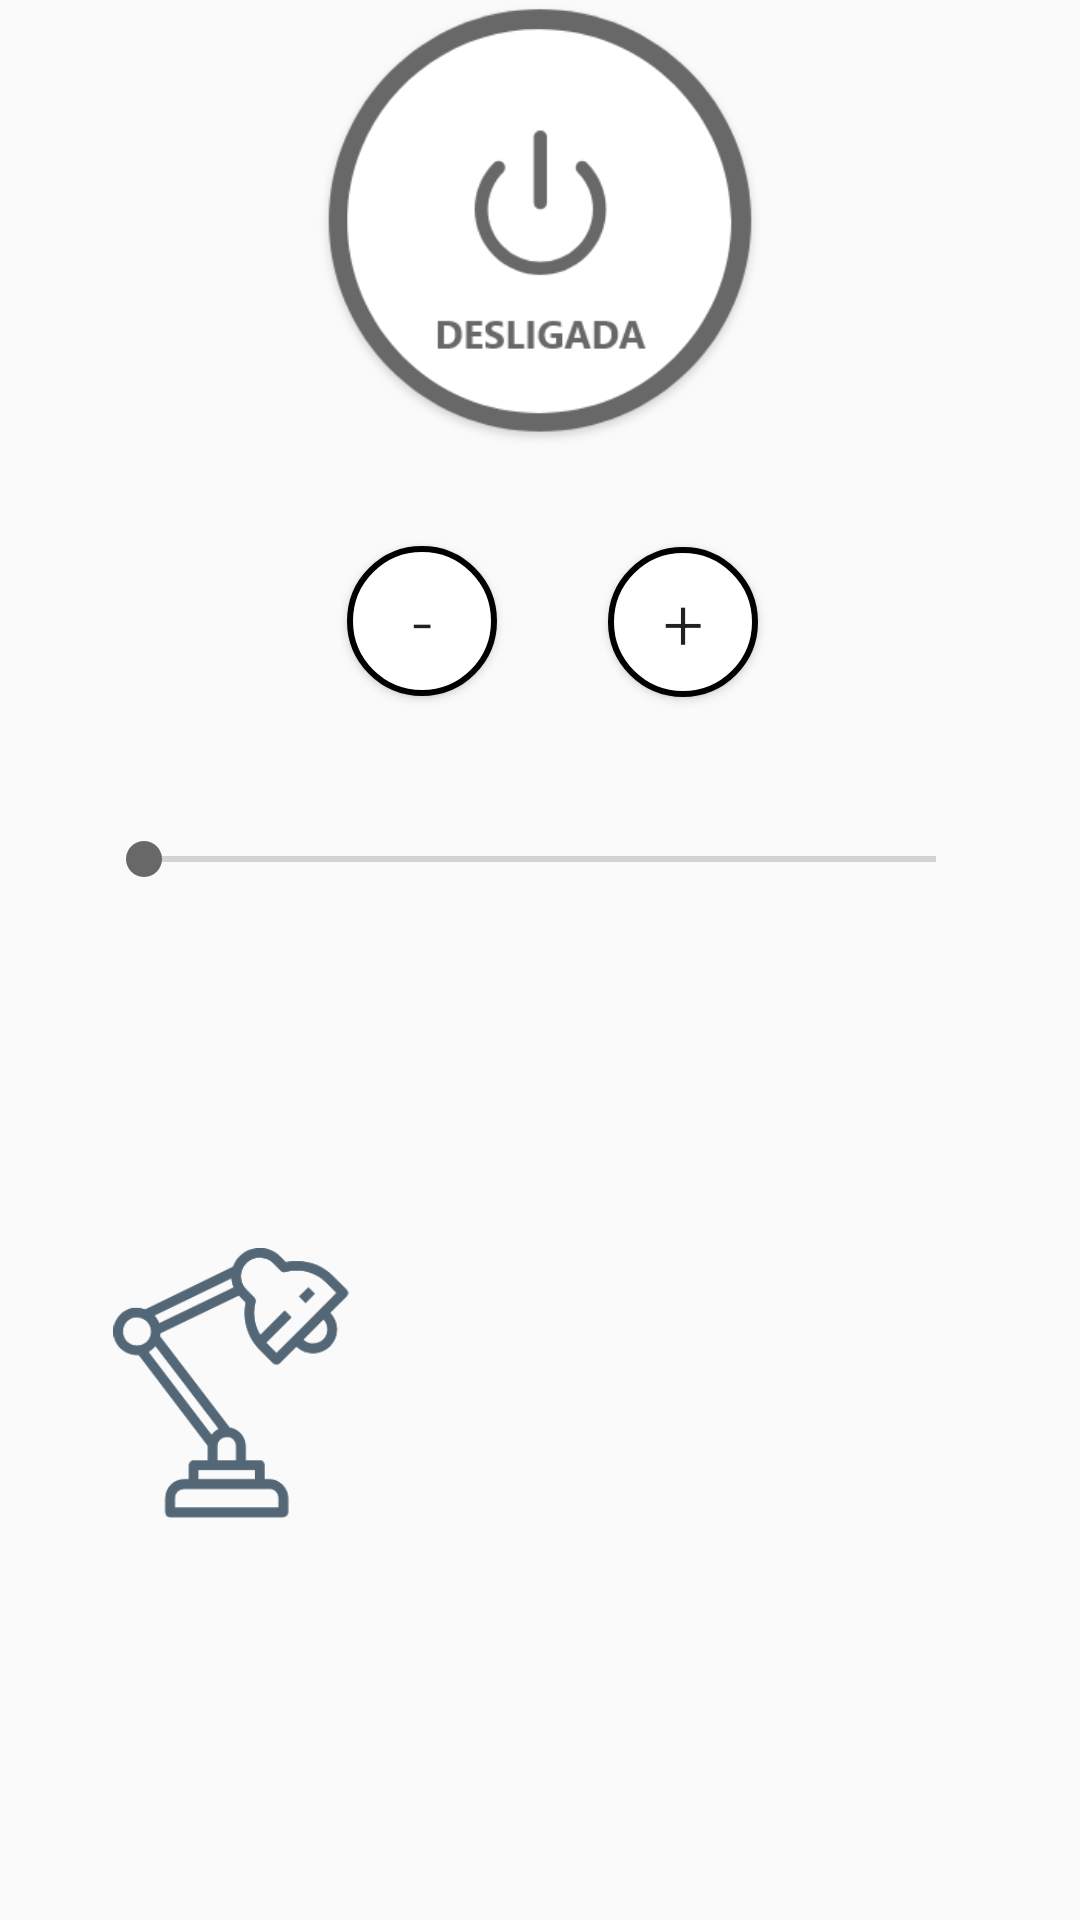

Icons on this 1080×1920 Android screen, each with its box as {"left": x1, "top": y1, "right": x2, "bottom": y2}:
lum: {"left": 113, "top": 1248, "right": 349, "bottom": 1518}
